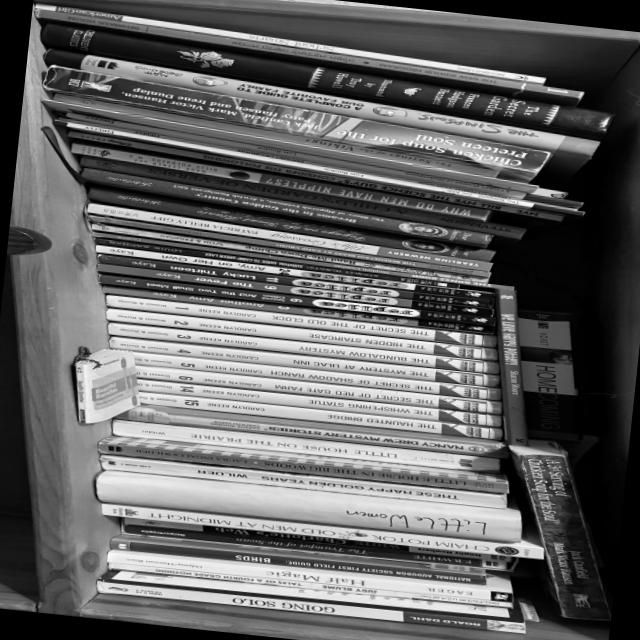book: (36, 20, 611, 142), (42, 44, 597, 162), (41, 62, 550, 185), (32, 5, 581, 108), (53, 117, 583, 221), (58, 109, 577, 210), (66, 129, 561, 222), (31, 1, 544, 85), (77, 149, 525, 245), (52, 91, 499, 179), (76, 165, 492, 249), (84, 183, 494, 267), (68, 141, 488, 222), (92, 468, 523, 543), (83, 201, 489, 274), (93, 567, 526, 634), (88, 230, 515, 293), (86, 214, 488, 278), (97, 433, 509, 495), (98, 502, 544, 559), (89, 222, 487, 284), (96, 453, 507, 510), (115, 400, 505, 459), (110, 417, 500, 476), (96, 252, 492, 310), (93, 244, 493, 301), (95, 262, 495, 318), (103, 548, 512, 602), (97, 273, 497, 328), (106, 320, 499, 375), (108, 334, 498, 389), (102, 293, 495, 347), (100, 284, 496, 337), (508, 432, 612, 633), (104, 308, 497, 361), (91, 236, 462, 291), (108, 533, 488, 585), (121, 522, 507, 572), (134, 390, 503, 442), (106, 562, 513, 609), (133, 364, 502, 414), (136, 377, 501, 427), (131, 351, 497, 400), (136, 517, 511, 564), (513, 306, 581, 445), (491, 287, 528, 447)
